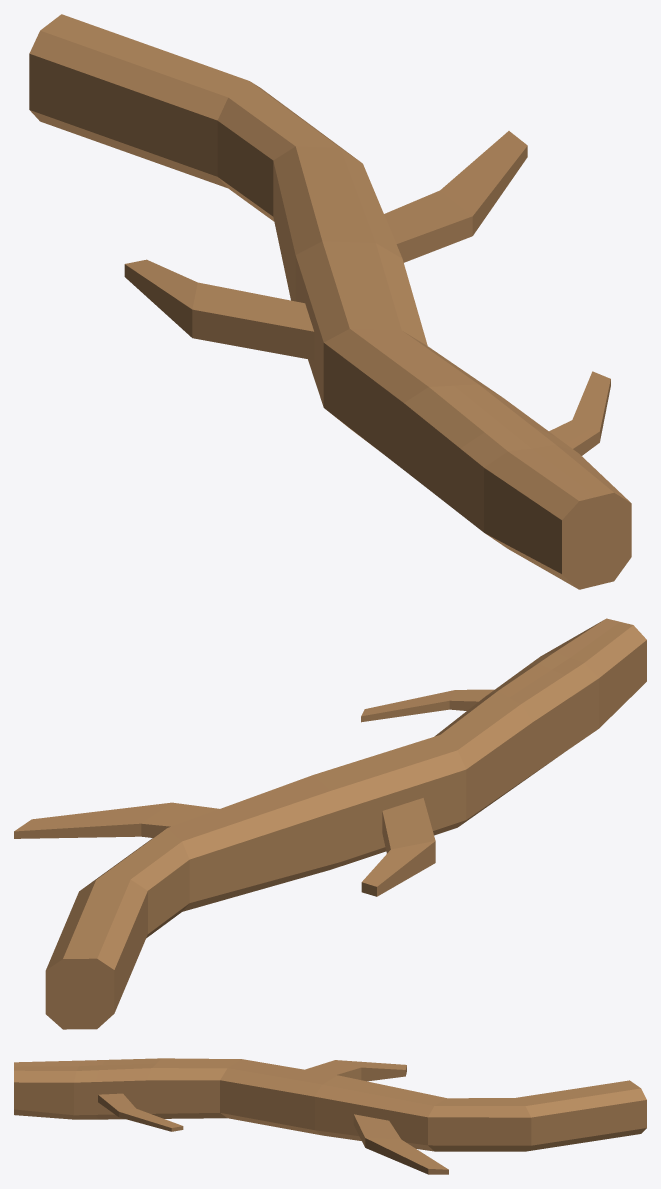
The model's file is Driftwood.fbx.
The picture shows the model from 3 angles, top to bottom: view 1: azimuth 30°, elevation 25°; view 2: azimuth 150°, elevation 25°; view 3: azimuth 270°, elevation 25°; orthographic projection. The views are drawn at different scales.
Parts seen in each view (by area): view 1: Cube; view 2: Cube; view 3: Cube.
Part boxes in pixels (x1,y1,x2,y2): Cube: [29, 14, 631, 589]; Cube: [14, 618, 646, 1029]; Cube: [14, 1058, 646, 1174].
Bounding box in the file's own units: 108 × 24.74 × 276.
